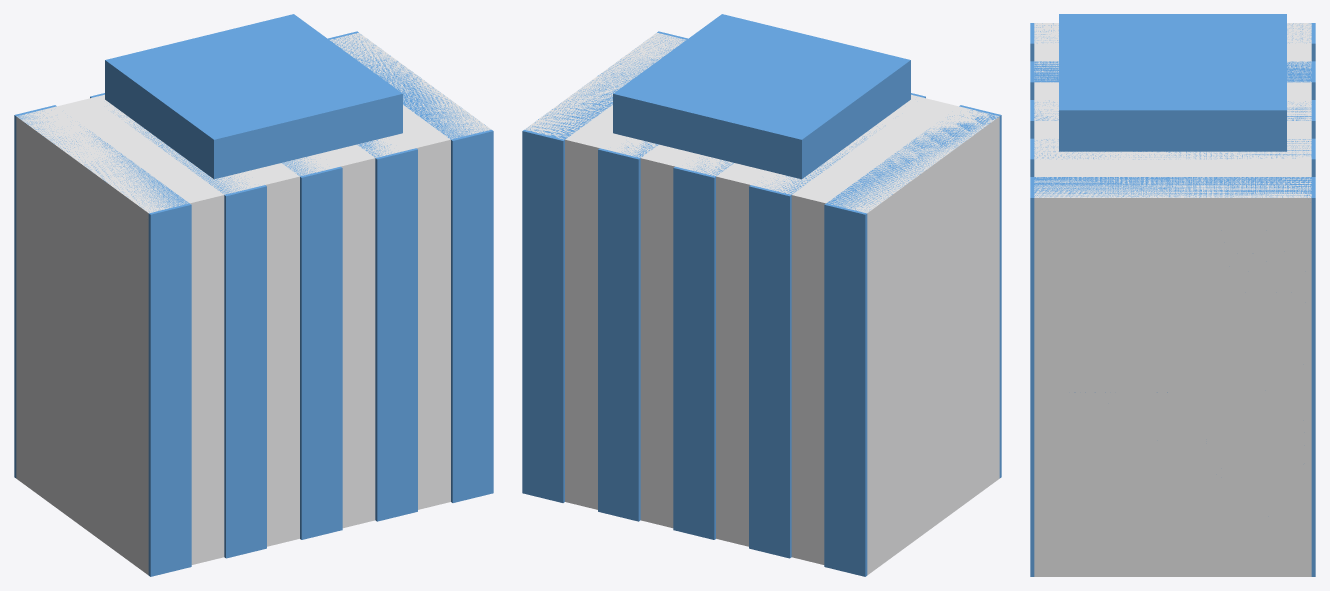
The model's file is futebol_tronco.glb.
The picture shows the model from 3 angles, left to right: view 1: azimuth 30°, elevation 25°; view 2: azimuth 150°, elevation 25°; view 3: azimuth 270°, elevation 25°; orthographic projection. The views are drawn at different scales.
Parts seen in each view (by area): view 1: futebol_tronco; view 2: futebol_tronco; view 3: futebol_tronco.
Part boxes in pixels (bbox=[...]): futebol_tronco: bbox=[14, 14, 493, 576]; futebol_tronco: bbox=[522, 14, 1001, 576]; futebol_tronco: bbox=[1030, 14, 1315, 576].
Bounding box in the file's own units: 0.545 × 0.62 × 0.375.
